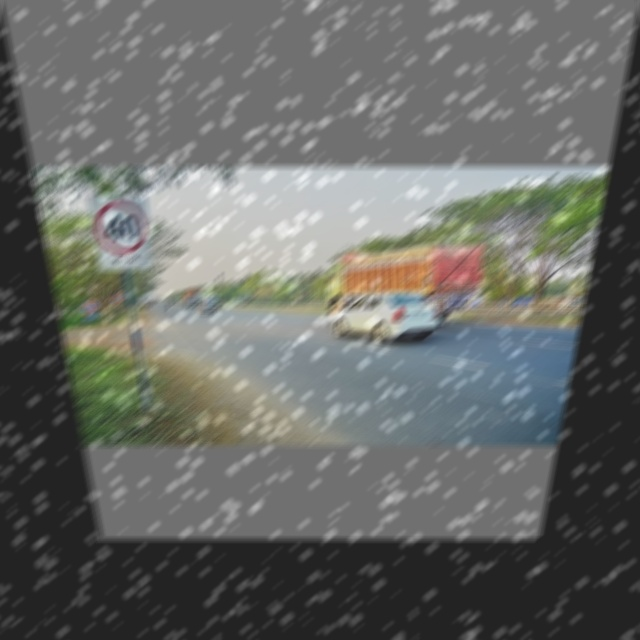Speed_Limit_40: (88, 192, 155, 273)
